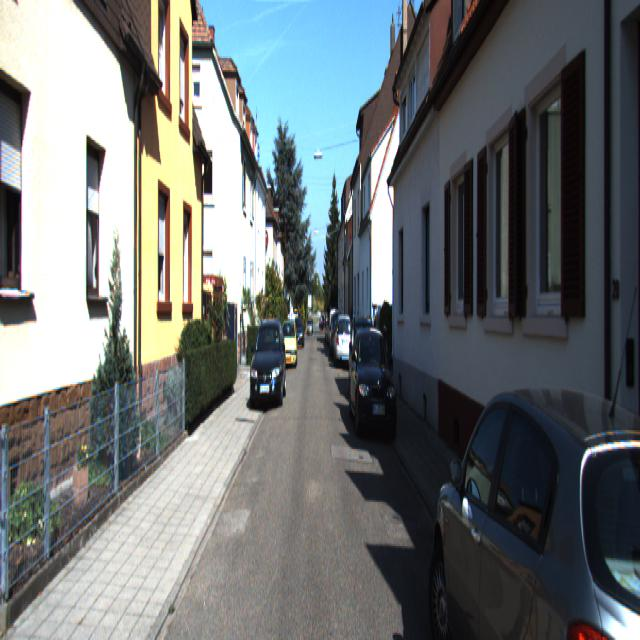Car: (430, 355, 640, 638), (348, 318, 397, 443), (249, 313, 286, 412), (333, 310, 353, 368), (280, 316, 297, 369)
